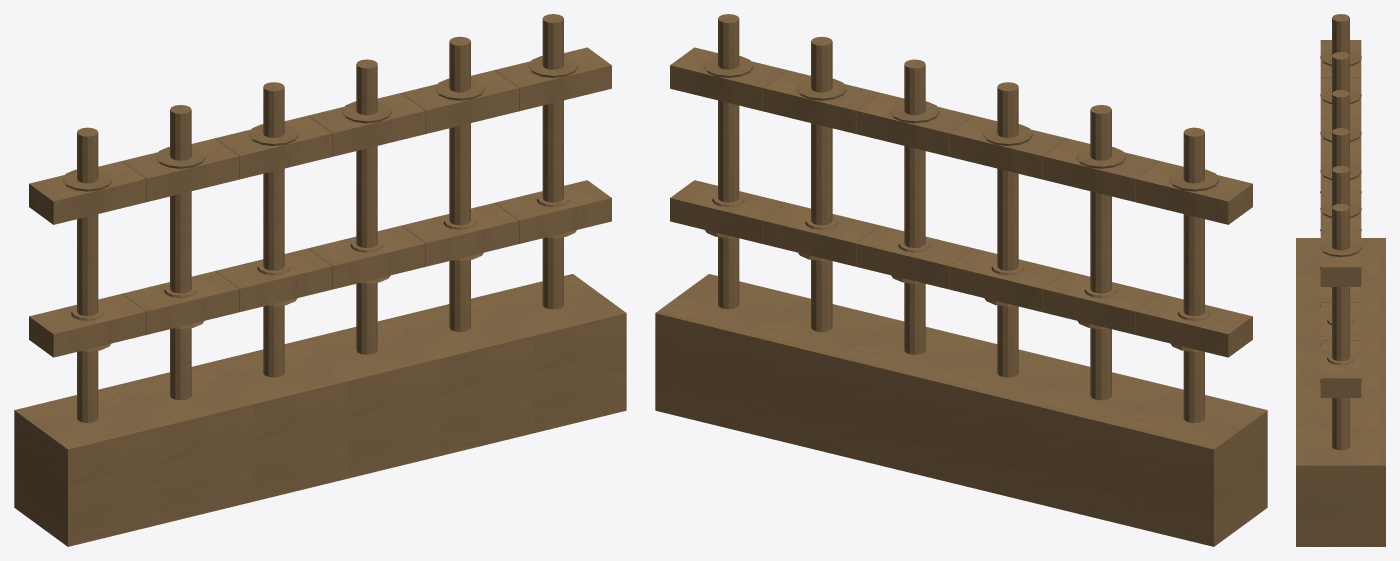
File: Railingx6.glb
3 views of the same model, side by side, from view 1: azimuth 30°, elevation 25°; view 2: azimuth 150°, elevation 25°; view 3: azimuth 270°, elevation 25° (orthographic). The views are drawn at different scales.
Parts seen in each view (by area): view 1: Railingx6; view 2: Railingx6; view 3: Railingx6.
Part boxes in pixels (<box>): Railingx6: <box>14,14,626,546</box>; Railingx6: <box>655,14,1267,546</box>; Railingx6: <box>1296,14,1385,546</box>.
Bounding box in the file's own units: 12 × 7.88 × 2.
1 material, 1 textured.
